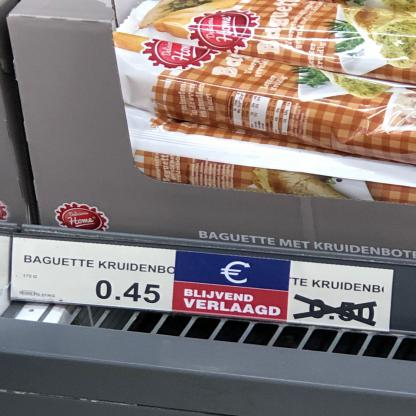prtg: (11, 238, 178, 314)
